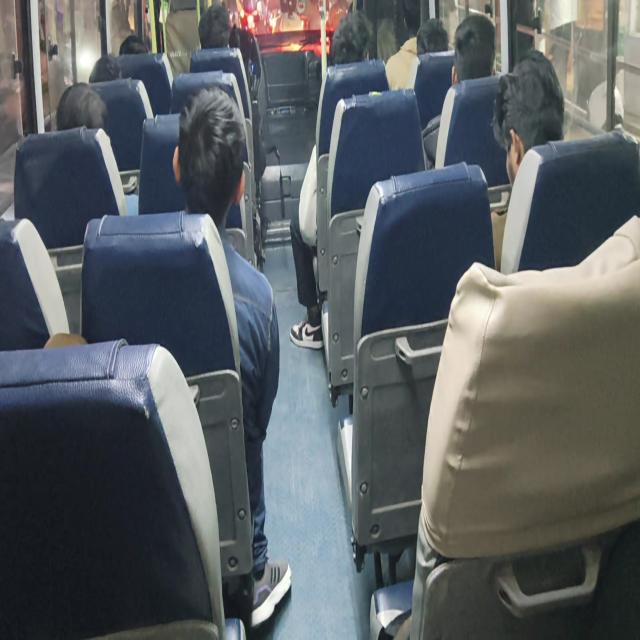person: (160, 92, 233, 224), (502, 62, 550, 176), (449, 18, 494, 86), (51, 85, 105, 135), (414, 22, 460, 76), (114, 26, 164, 58), (402, 14, 441, 55), (196, 15, 227, 62), (325, 18, 354, 57), (87, 54, 122, 86)
